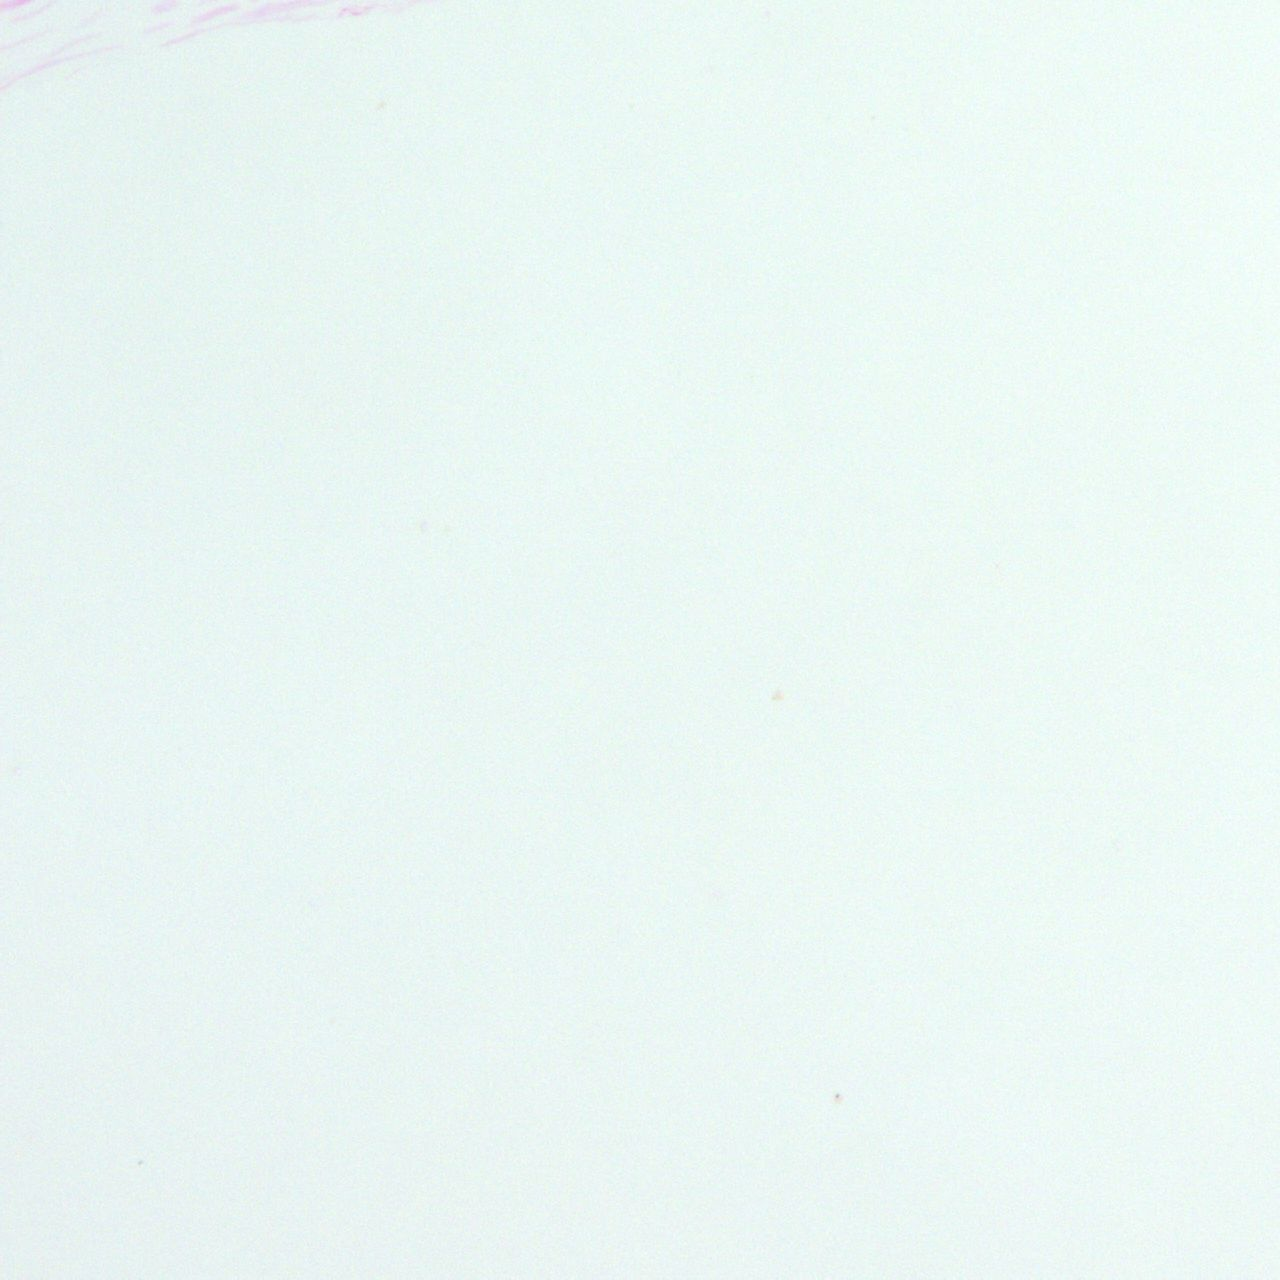dust: (833, 1090, 840, 1103)
